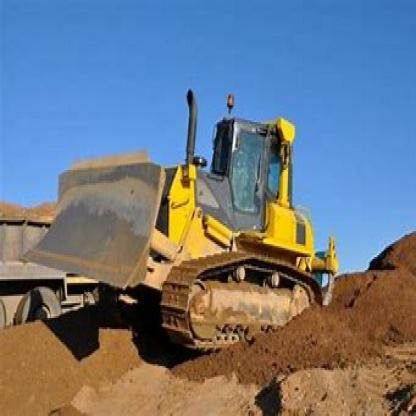bull_dozer/loader/grader: (27, 96, 345, 357)
